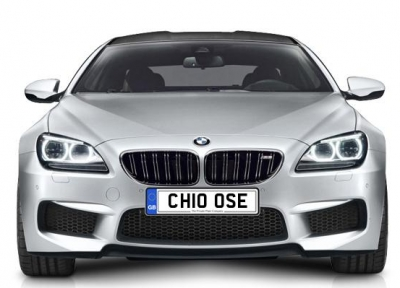Plate: (143, 185, 260, 215)
